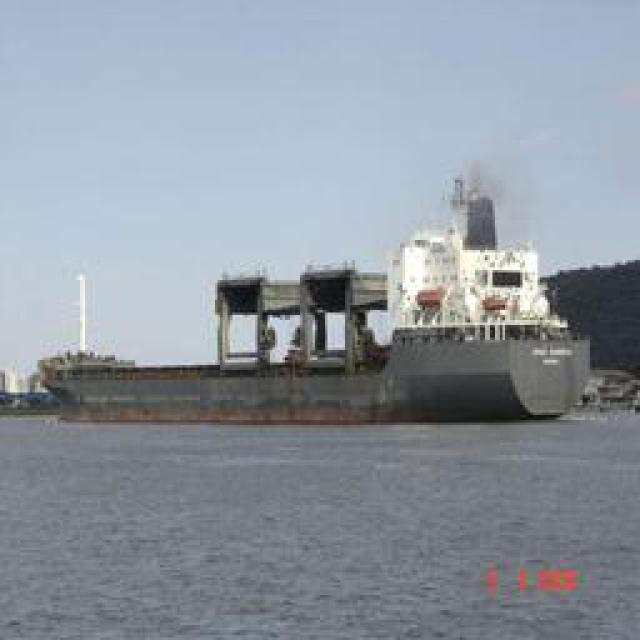Ship: (32, 173, 588, 430)
